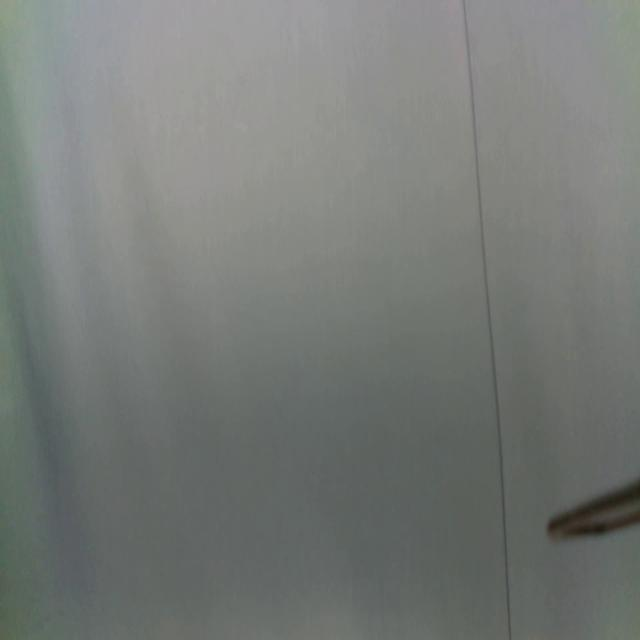crease: (461, 0, 512, 640)
